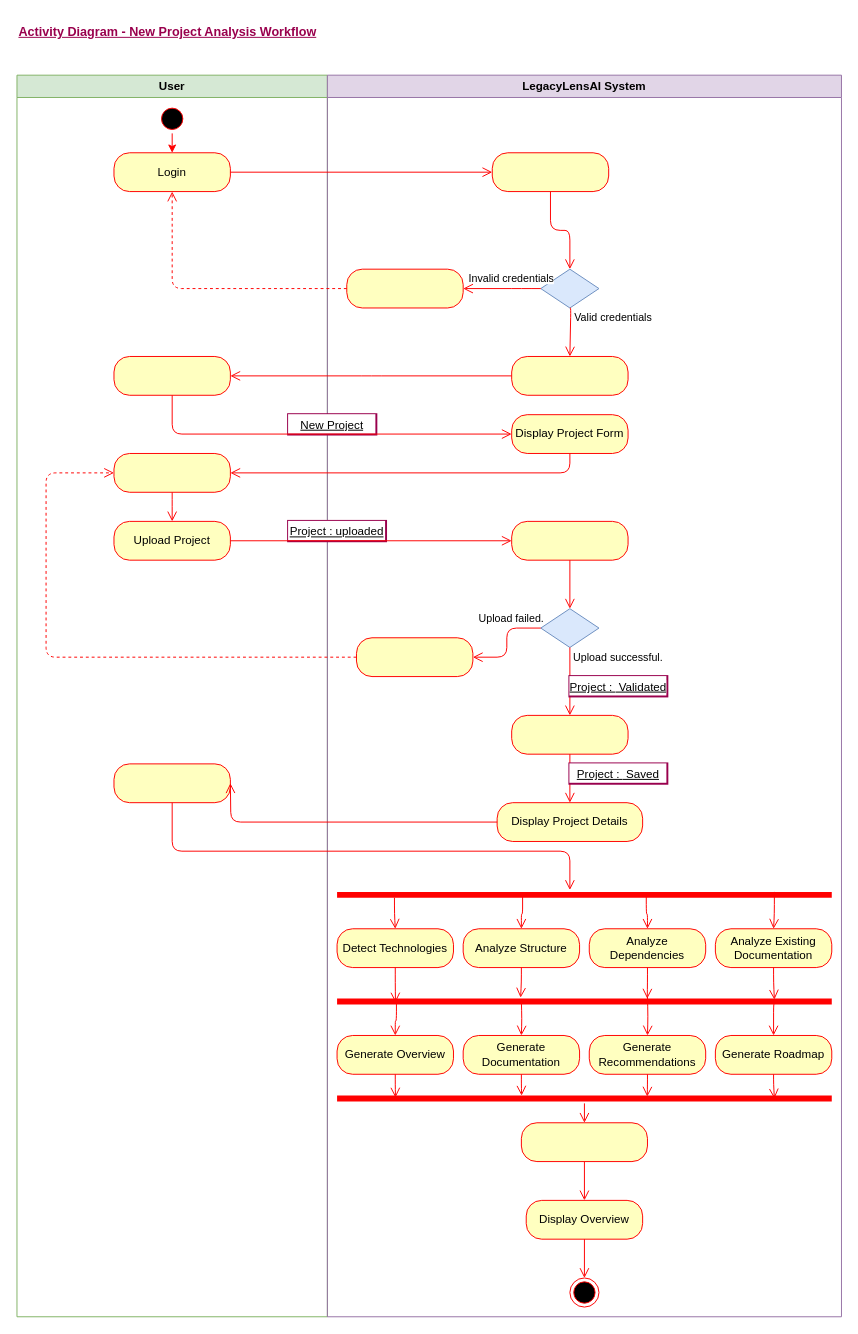
Image size: 858x1334. Some labels were removed from this diagram. Each missing label, with the box of its shape:
Authenticate User: (491, 152, 609, 192)
Click New Project: (113, 356, 230, 395)
Click Start Analysis: (113, 763, 230, 803)
Display Dashboard: (511, 356, 628, 395)
Display Login Error: (346, 268, 463, 308)
Display Upload Error: (356, 637, 473, 677)
Save Analysis Results: (520, 1122, 647, 1162)
Save Project: (511, 714, 628, 754)
Select ZIP File: (113, 453, 230, 492)
Validate Uploaded Project: (511, 520, 628, 560)
